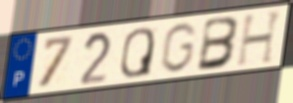2: (77, 30, 116, 86)
7: (37, 33, 75, 90)
B: (195, 15, 242, 74)
G: (158, 21, 199, 75)
H: (234, 9, 286, 69)
Q: (118, 26, 156, 80)
